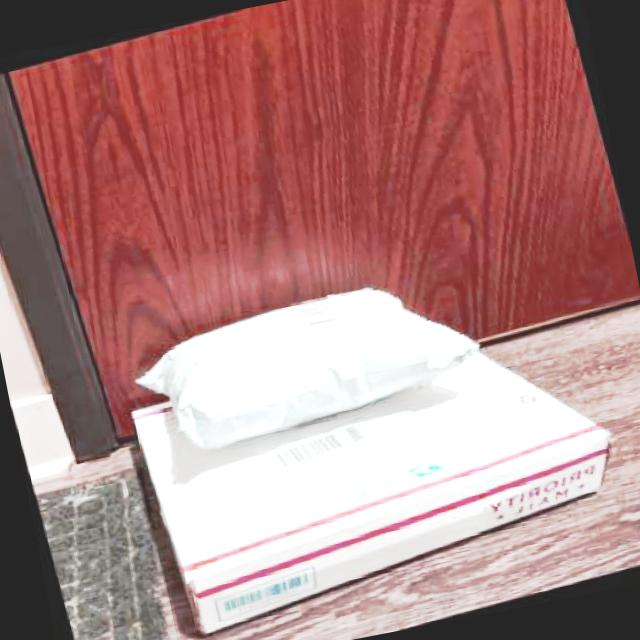Box: (107, 284, 640, 640), (116, 250, 502, 476)
